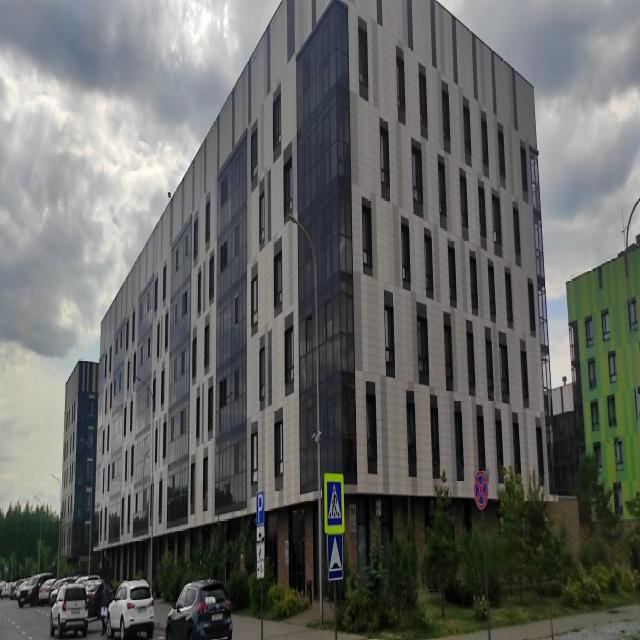Building: (92, 0, 580, 603)
